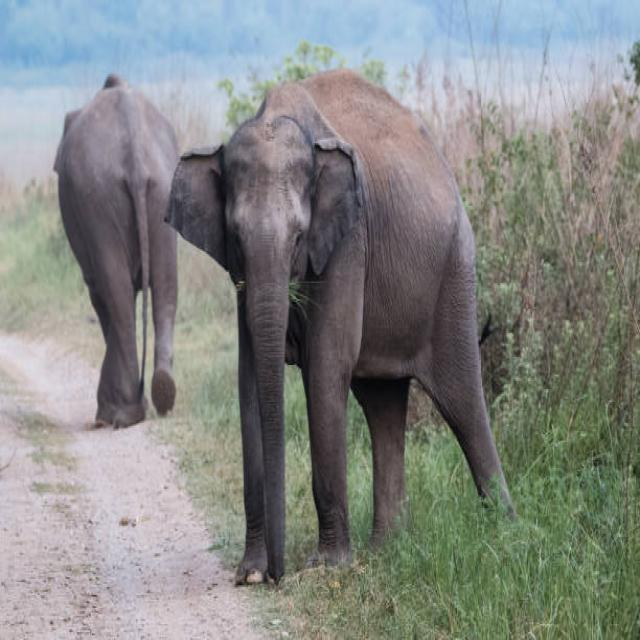Elephant: (170, 81, 533, 579), (42, 63, 180, 458)
